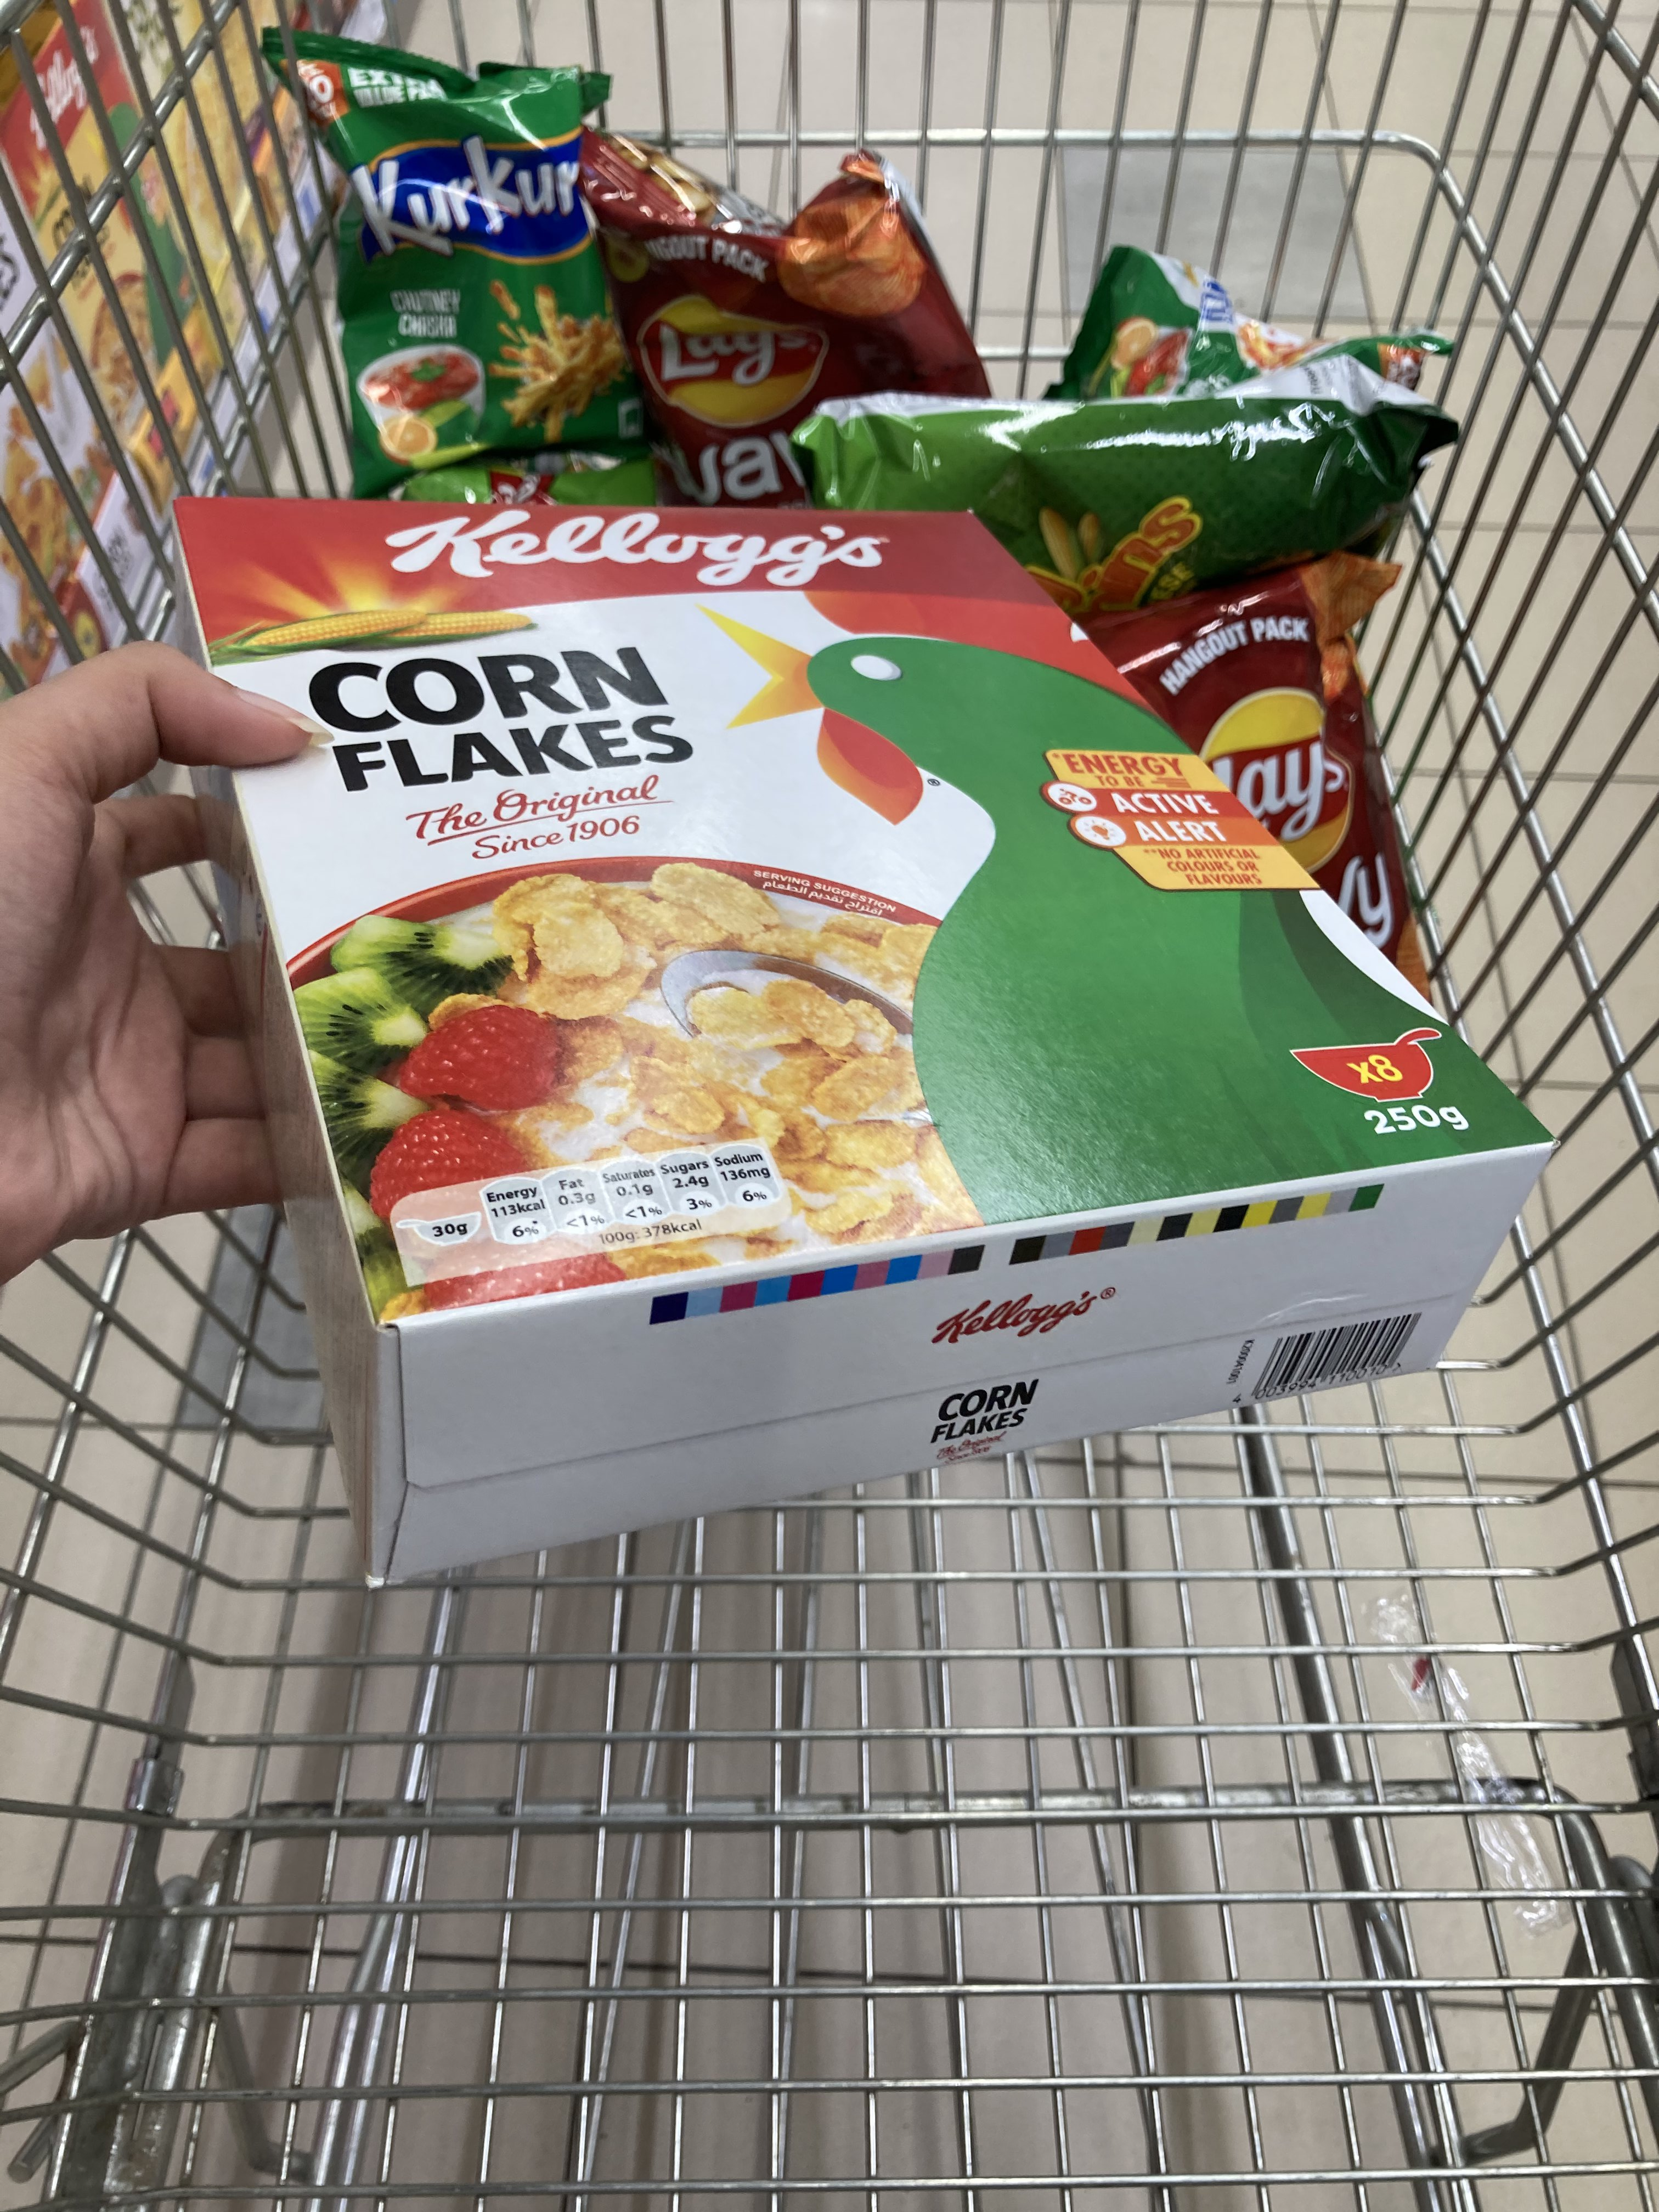Kellogg's Corn Flakes: (162, 486, 1561, 1588)
